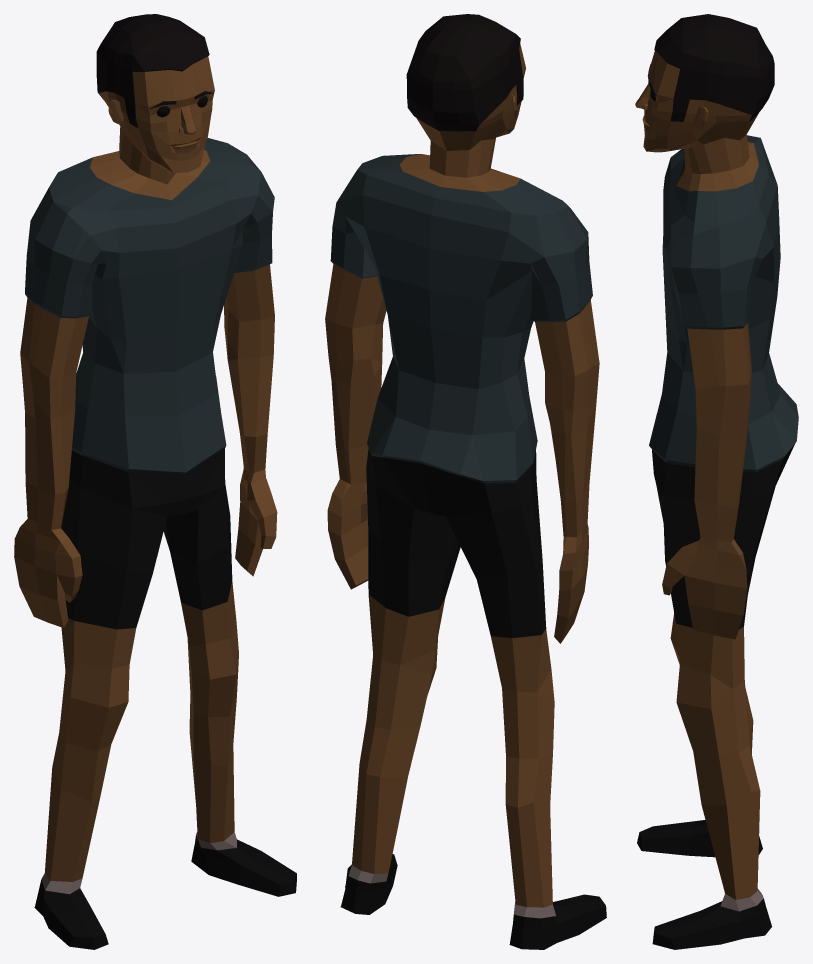
File: Male_Casual.obj
3 renders of one model, left to right at view 1: azimuth 30°, elevation 25°; view 2: azimuth 150°, elevation 25°; view 3: azimuth 270°, elevation 25°, orthographic. The views are drawn at different scales.
Visible parts, largest first — view 1: BaseHuman_Cylinder.002; view 2: BaseHuman_Cylinder.002; view 3: BaseHuman_Cylinder.002.
Part boxes in pixels (bbox=[...]): BaseHuman_Cylinder.002: bbox=[14, 14, 296, 949]; BaseHuman_Cylinder.002: bbox=[325, 14, 606, 949]; BaseHuman_Cylinder.002: bbox=[635, 14, 798, 949].
Size of the model in its own units: 1.43 by 4.83 by 0.8229.
